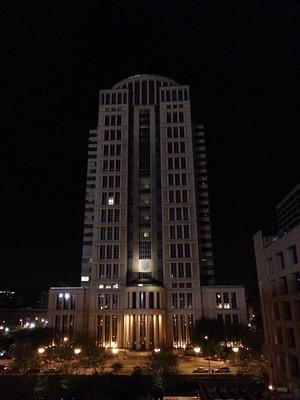building: (74, 68, 220, 358)
